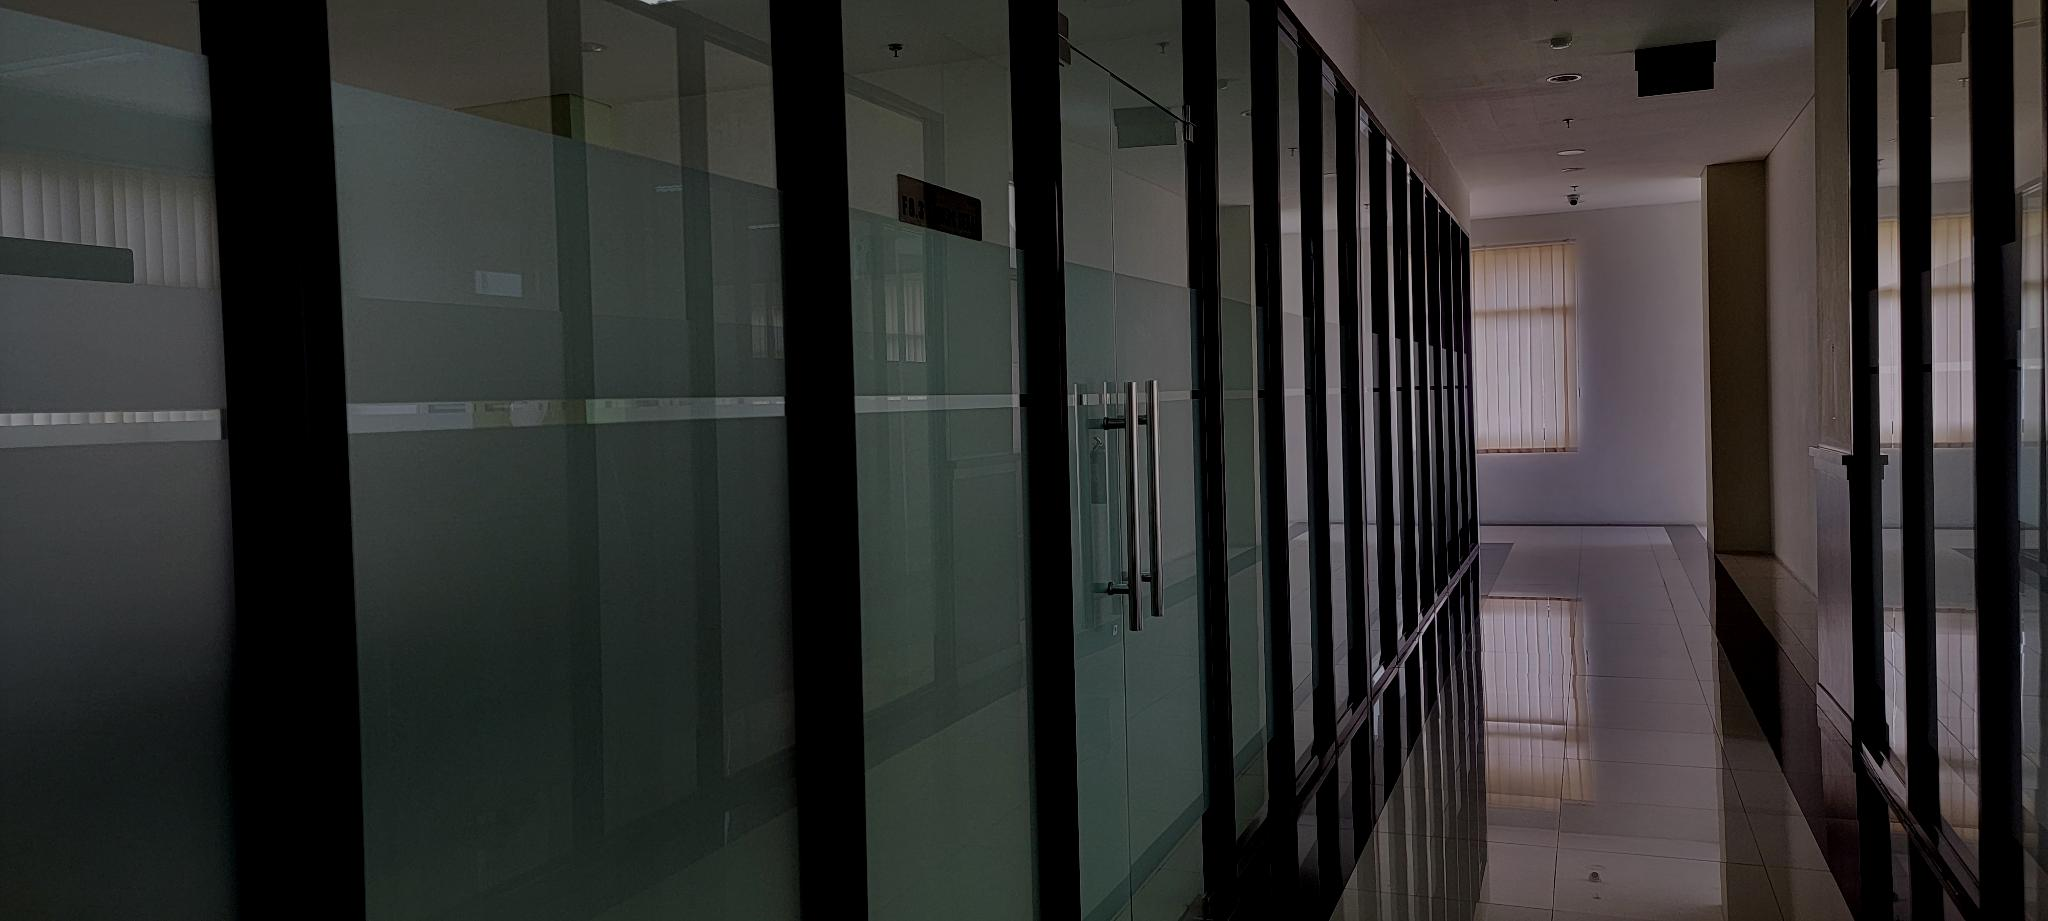plate: (896, 172, 983, 242)
